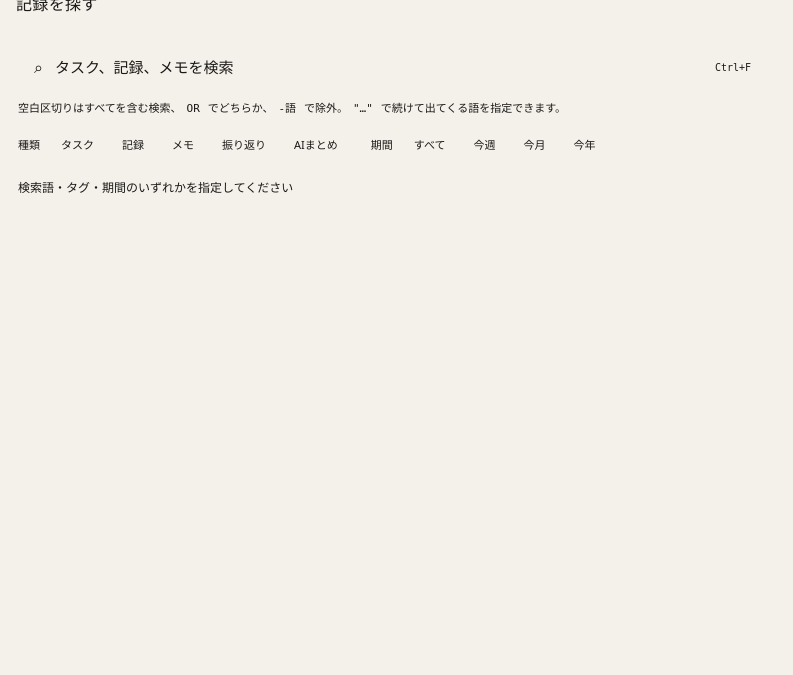
appends the next page and hides the button at the end
The width and height of the screenshot is (793, 675).
In the field with placeholder "タスク、記録、メモを検索": (375, 67) [55, 55, 696, 79], type "結果"
(page scrolled)
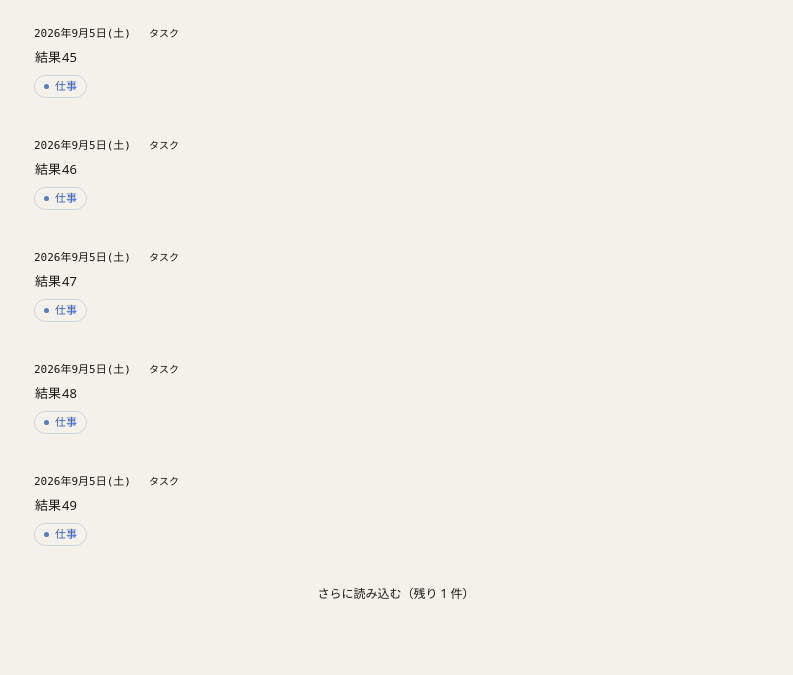
Click the button "さらに読み込む（残り 1 件）": (396, 593) [16, 573, 776, 613]
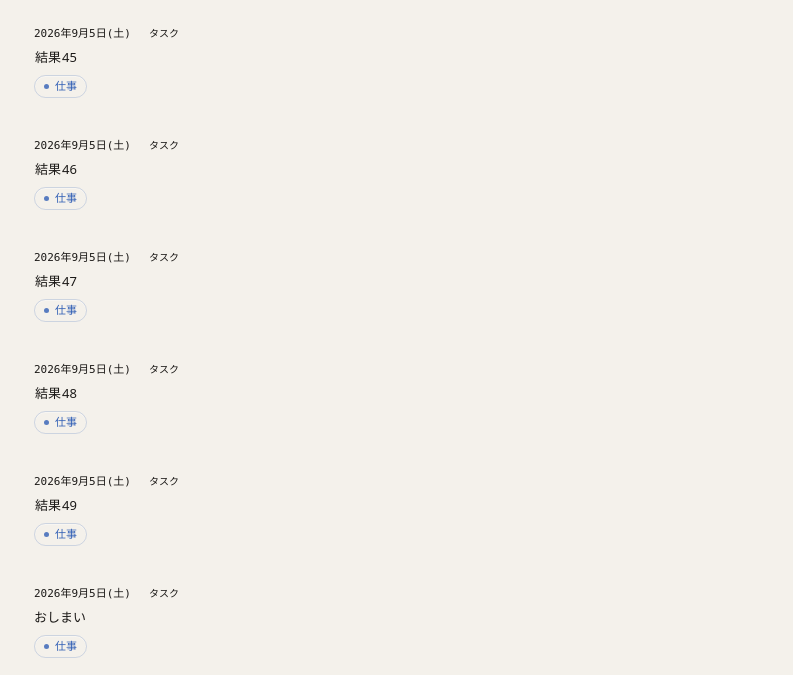
Expected: the text "おしまい" is shown, [34, 608, 86, 626]
Expected: the button "さらに読み込む" is gone
